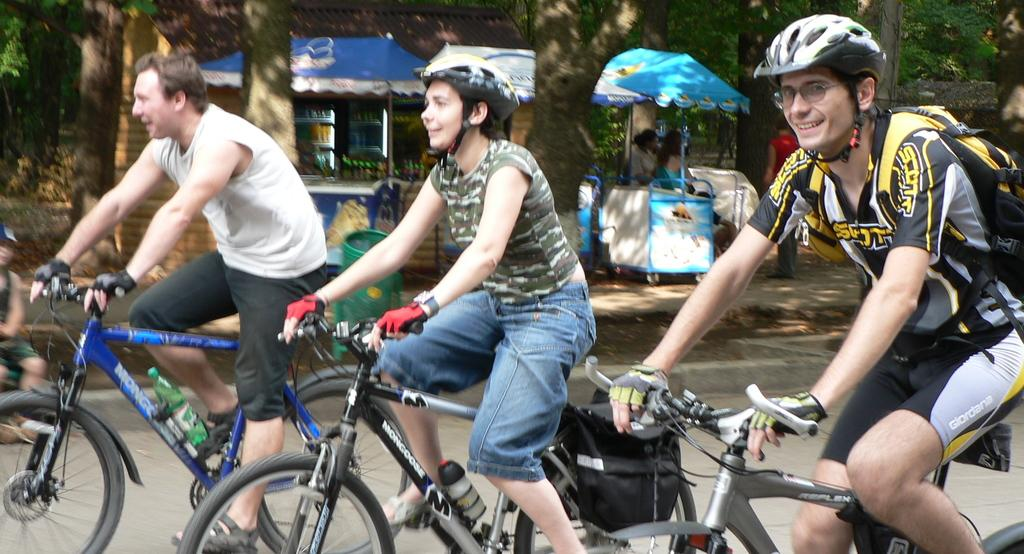Sem Máscara: (780, 62, 858, 147), (419, 74, 468, 144), (130, 62, 172, 135)
